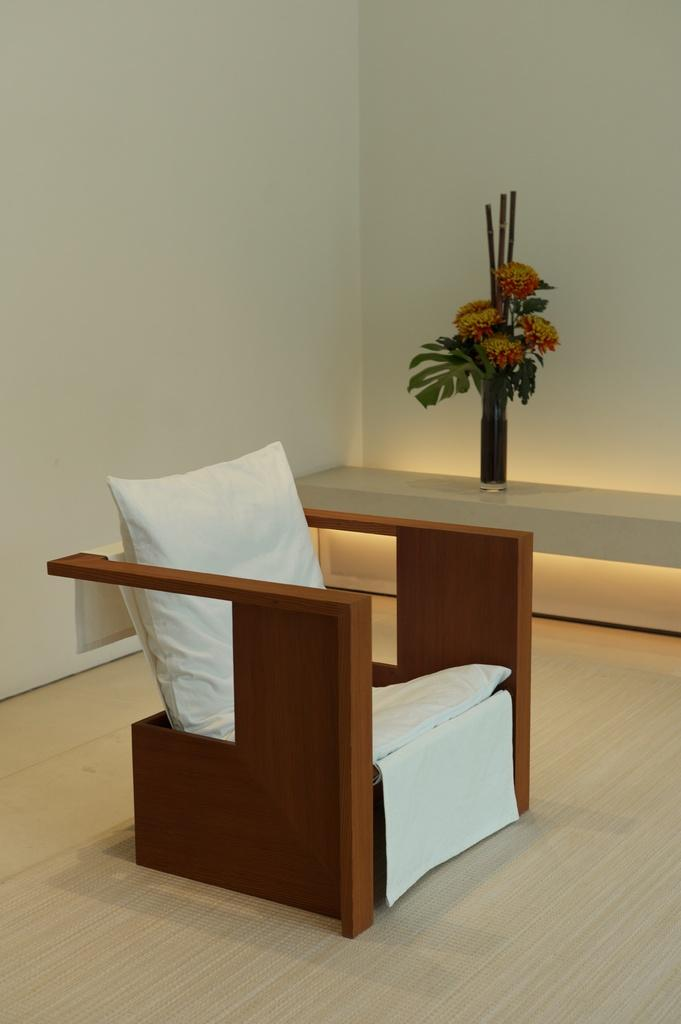Chair: (83, 421, 526, 932)
